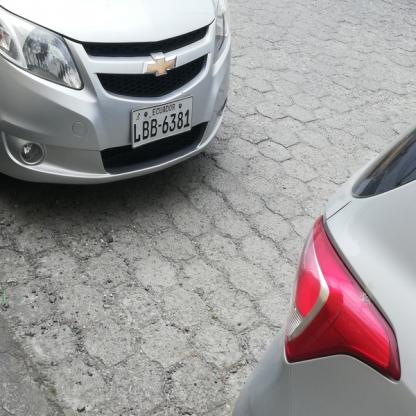Placa: (127, 99, 204, 148)
